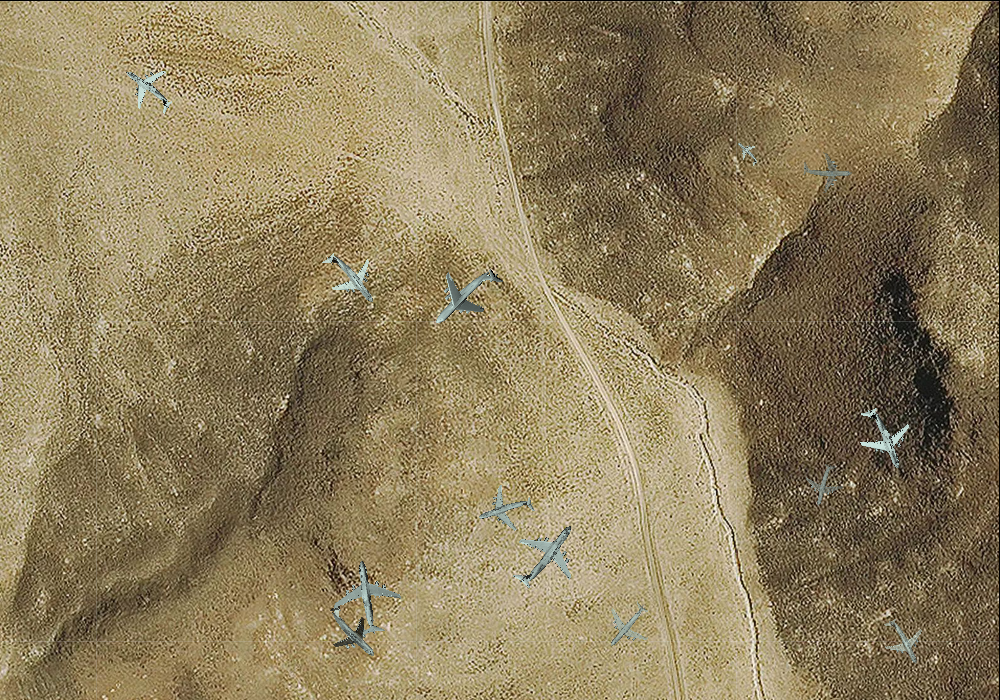plane: (493, 503, 597, 607), (415, 245, 518, 349), (311, 588, 395, 673), (308, 236, 391, 321), (843, 397, 924, 480), (327, 556, 407, 639), (109, 51, 186, 127), (592, 590, 663, 661), (470, 475, 541, 545), (871, 609, 935, 675), (799, 459, 850, 511), (802, 147, 853, 194), (729, 134, 765, 171)
